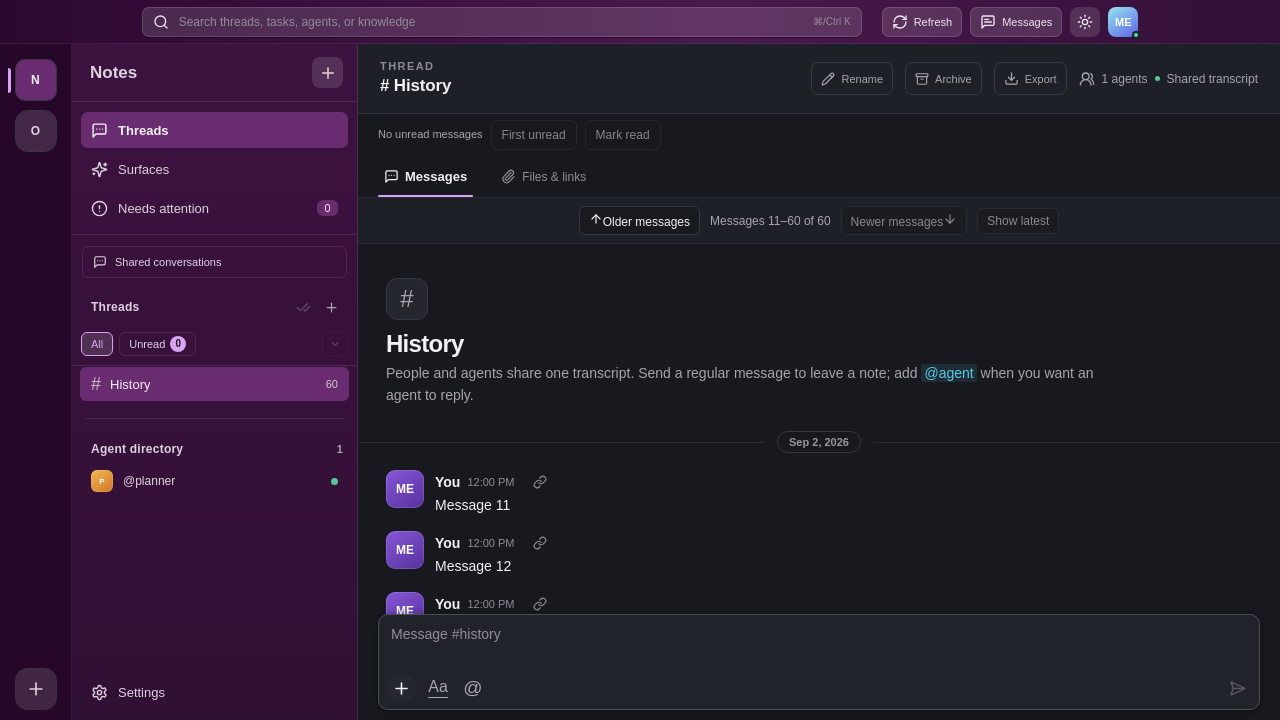
it: Conversation history pagination › retries the failed Older intent instead of the previous page
expect the text "Messages 11–60 of 60" is shown: met, box [710,214,830,228]
Click the button "Older messages" at (639, 220), box [579,206,700,235]
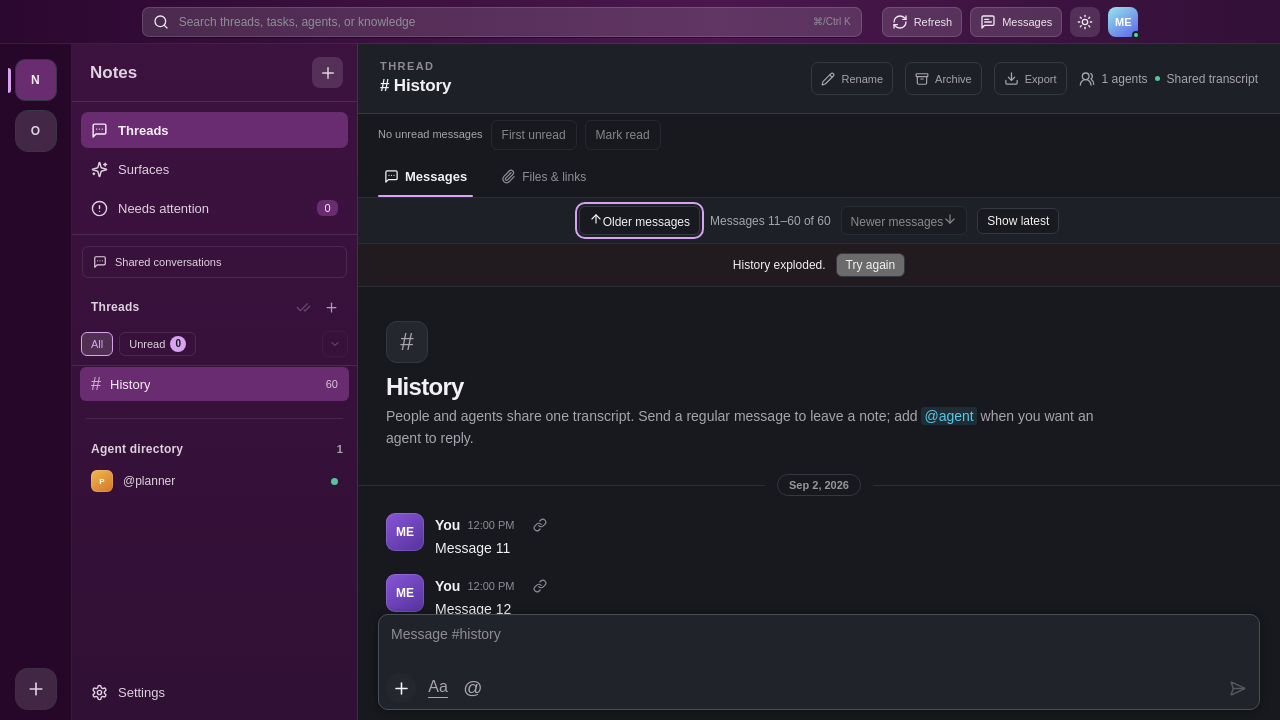
expect the message shows "History exploded.": met, box [733,258,826,272]
Click the button "Try again" at (870, 265), box [836,253,905,277]
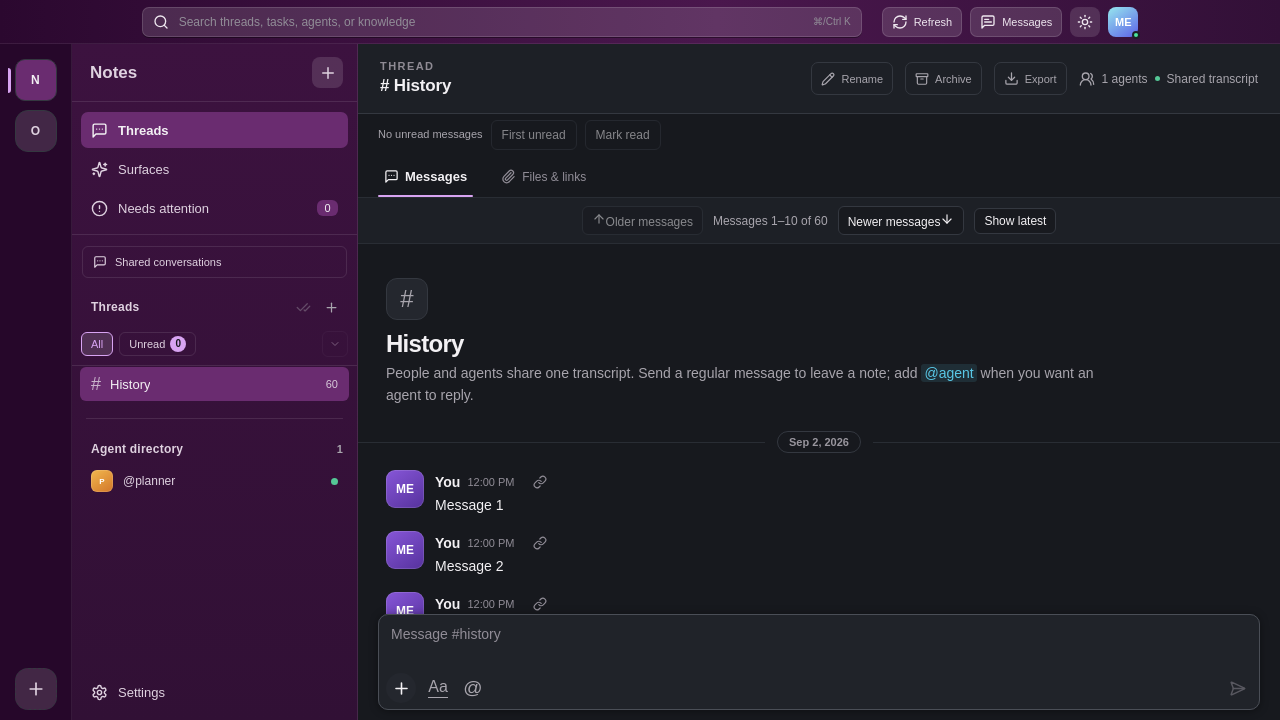
expect the text "Message 1" is shown: met, box [435,497,504,513]
expect the text "Messages 1–10 of 60" is shown: met, box [713,214,828,228]
